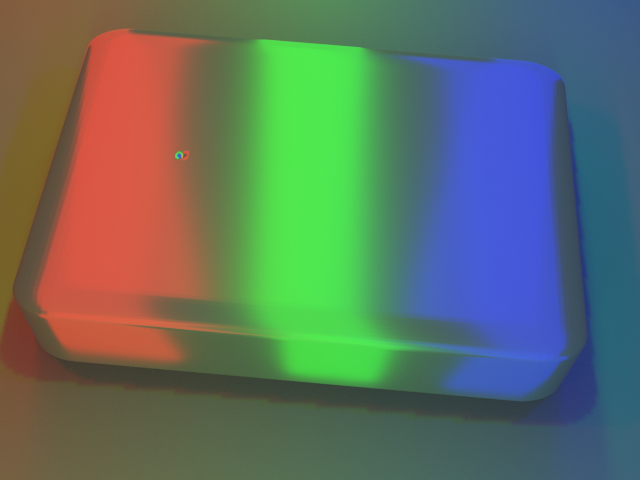dent: (149, 131, 184, 164)
